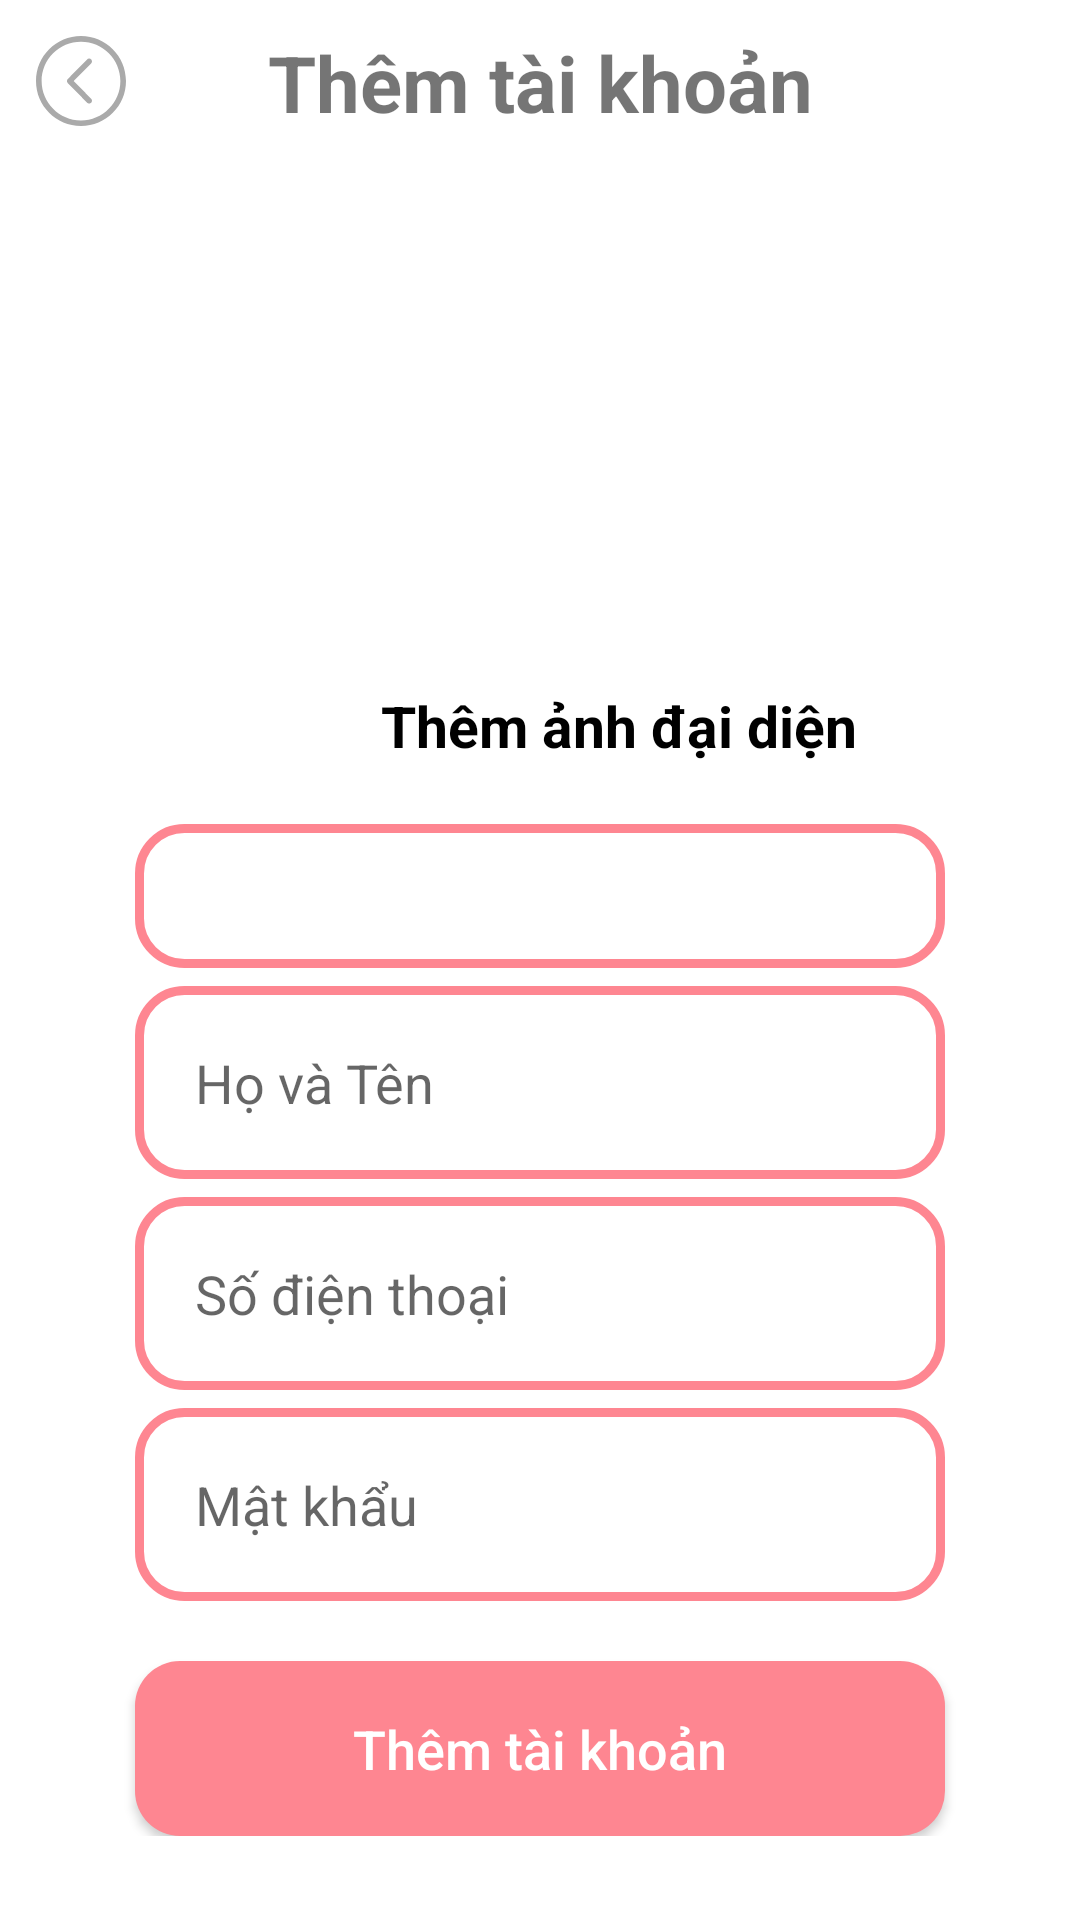

Named icons in this screenshot (1080×1920) and their centers, point (x, y):
back: point (81, 81)
